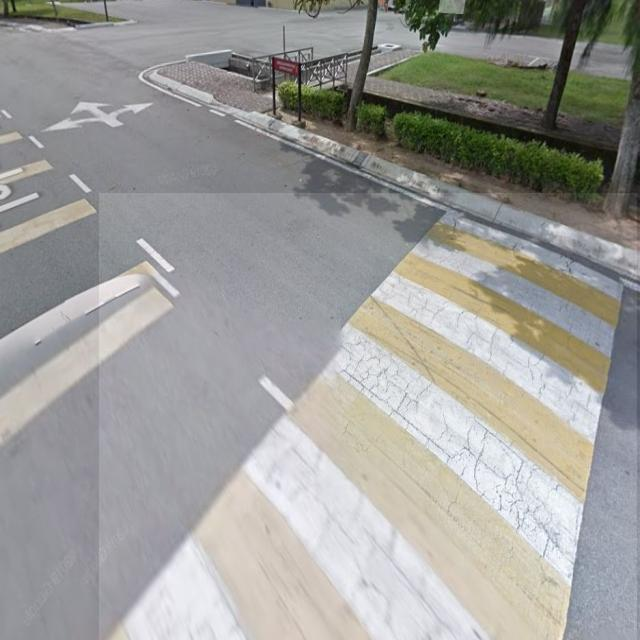speed-bump: (99, 193, 637, 640)
